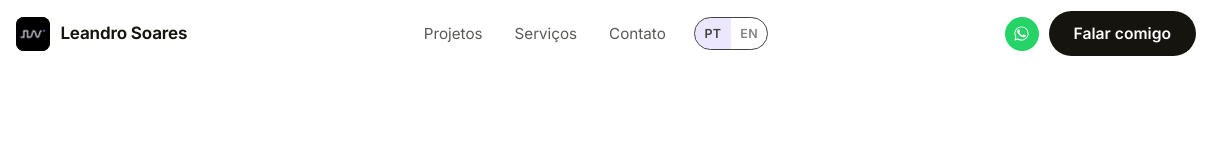
Test: Navbar – botão "Falar comigo" › atualiza o texto do botão ao trocar de idioma
Click the button "EN".
click(749, 34)  # box [731,18,768,49]
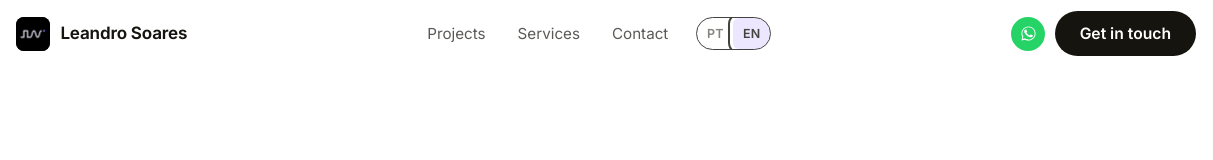
Now the link "Get in touch" is shown, box [1055,11,1196,56]
Now the link "Falar comigo" is gone
